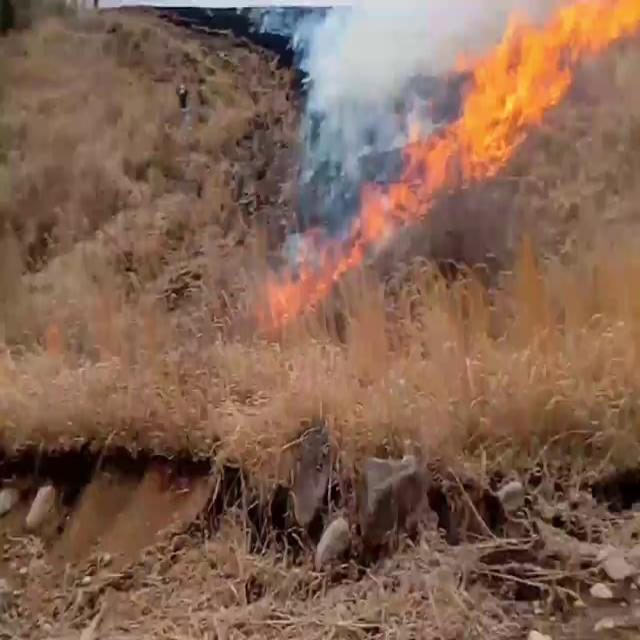Fire: (387, 1, 638, 211)
Smoke: (281, 0, 449, 198)
